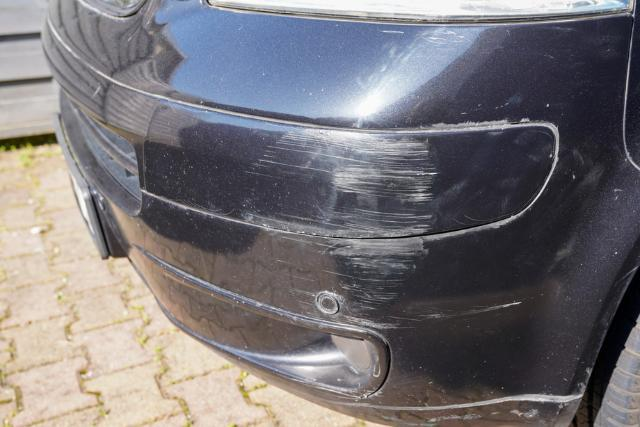Bumper: (233, 100, 577, 413)
